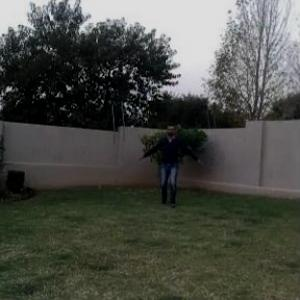land: (136, 116, 205, 208)
